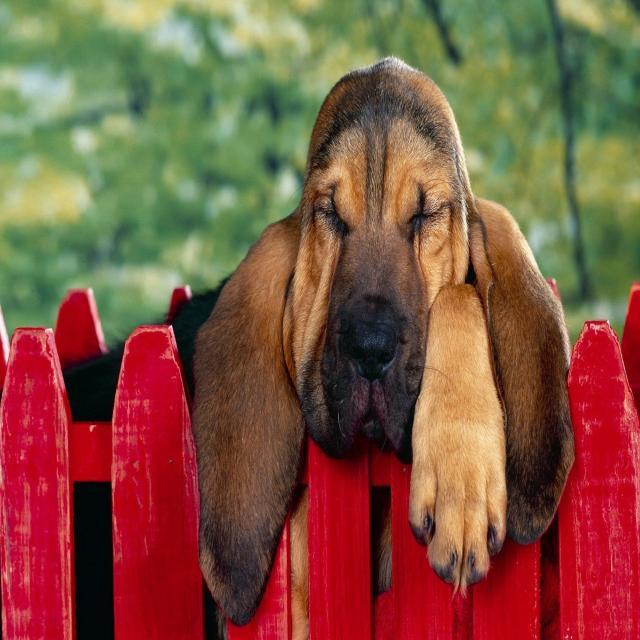Dogs: (0, 53, 575, 639)
